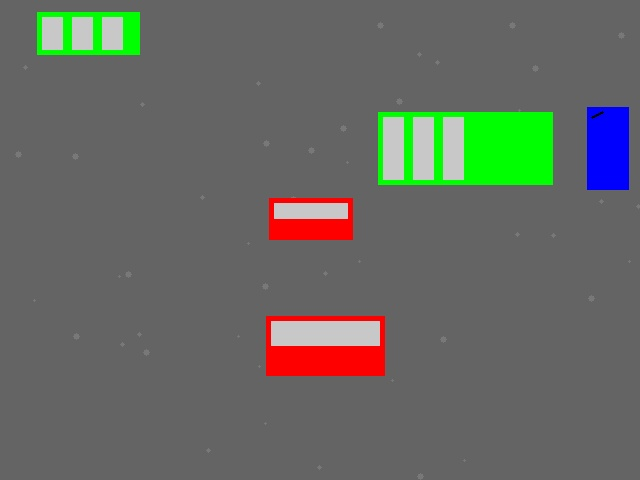bus: (378, 112, 552, 184), (37, 12, 139, 54)
car: (266, 316, 384, 375), (269, 198, 352, 239)
motorcycle: (587, 107, 628, 189)
